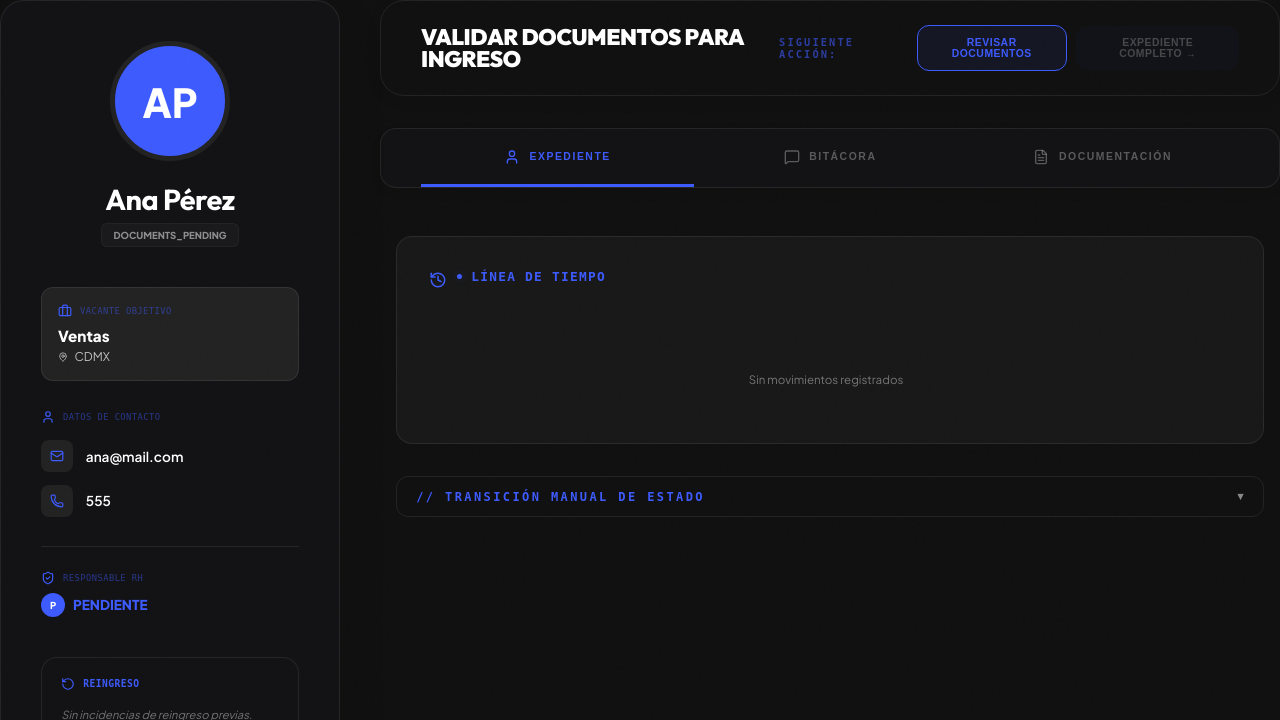
CrmApplicationDetail › botón SOLICITAR DOCUMENTOS aparece en status documents_pending
Expected: the heading "Ana Pérez" is shown, [105,181,235,217]
Click the button "DOCUMENTACIÓN". click: (1103, 158)
box: [966,129,1239,187]
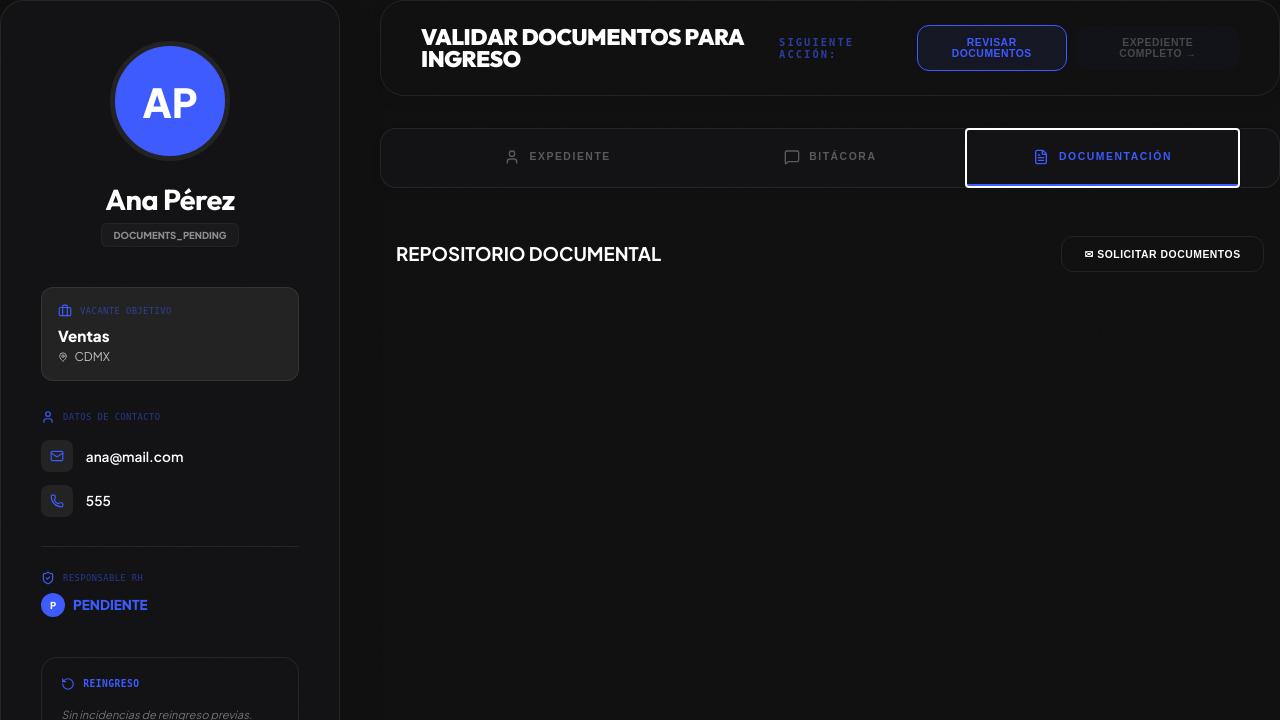
Now the button "✉ SOLICITAR DOCUMENTOS" is shown, box [1061,236,1264,272]
